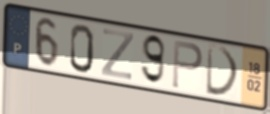0: (69, 23, 97, 75)
6: (34, 16, 61, 69)
9: (138, 33, 167, 88)
D: (205, 42, 242, 99)
P: (171, 38, 205, 92)
Z: (99, 26, 136, 82)
